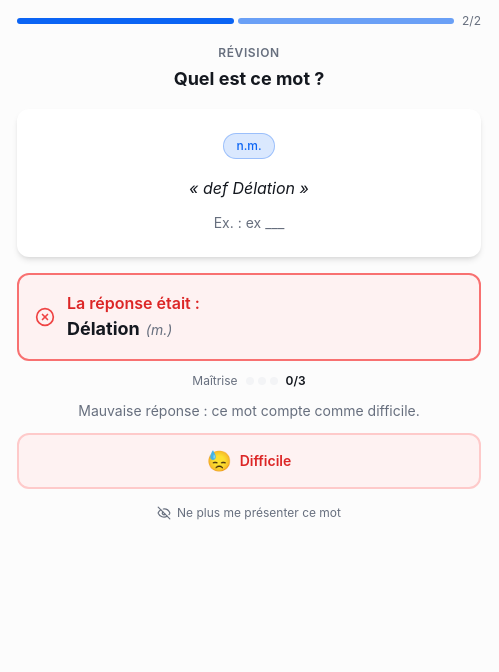
it: DailyWord — compteur de fin de session › un mot ignoré n'est pas compté comme révision : 2 mots dont 1 ignoré, 1 répondu => « 1 révision faite »
Earlier steps of the test are not shown.
Click the button "😓 Difficile": (249, 461) [17, 433, 481, 489]
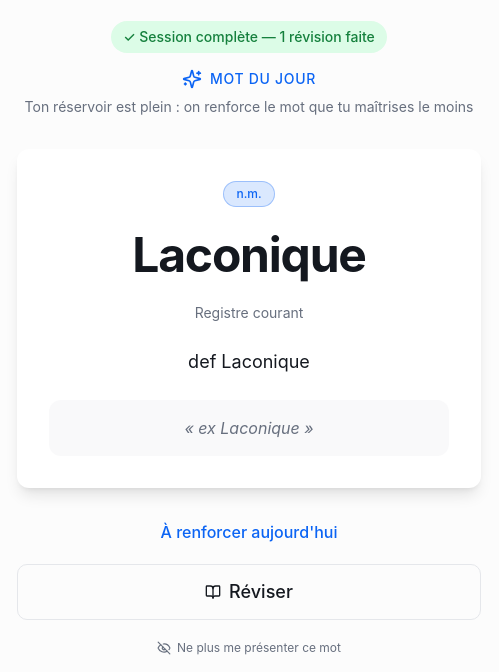
Now the text "✓ Session complète — 1 révision faite" is shown, box [111, 21, 387, 53]
